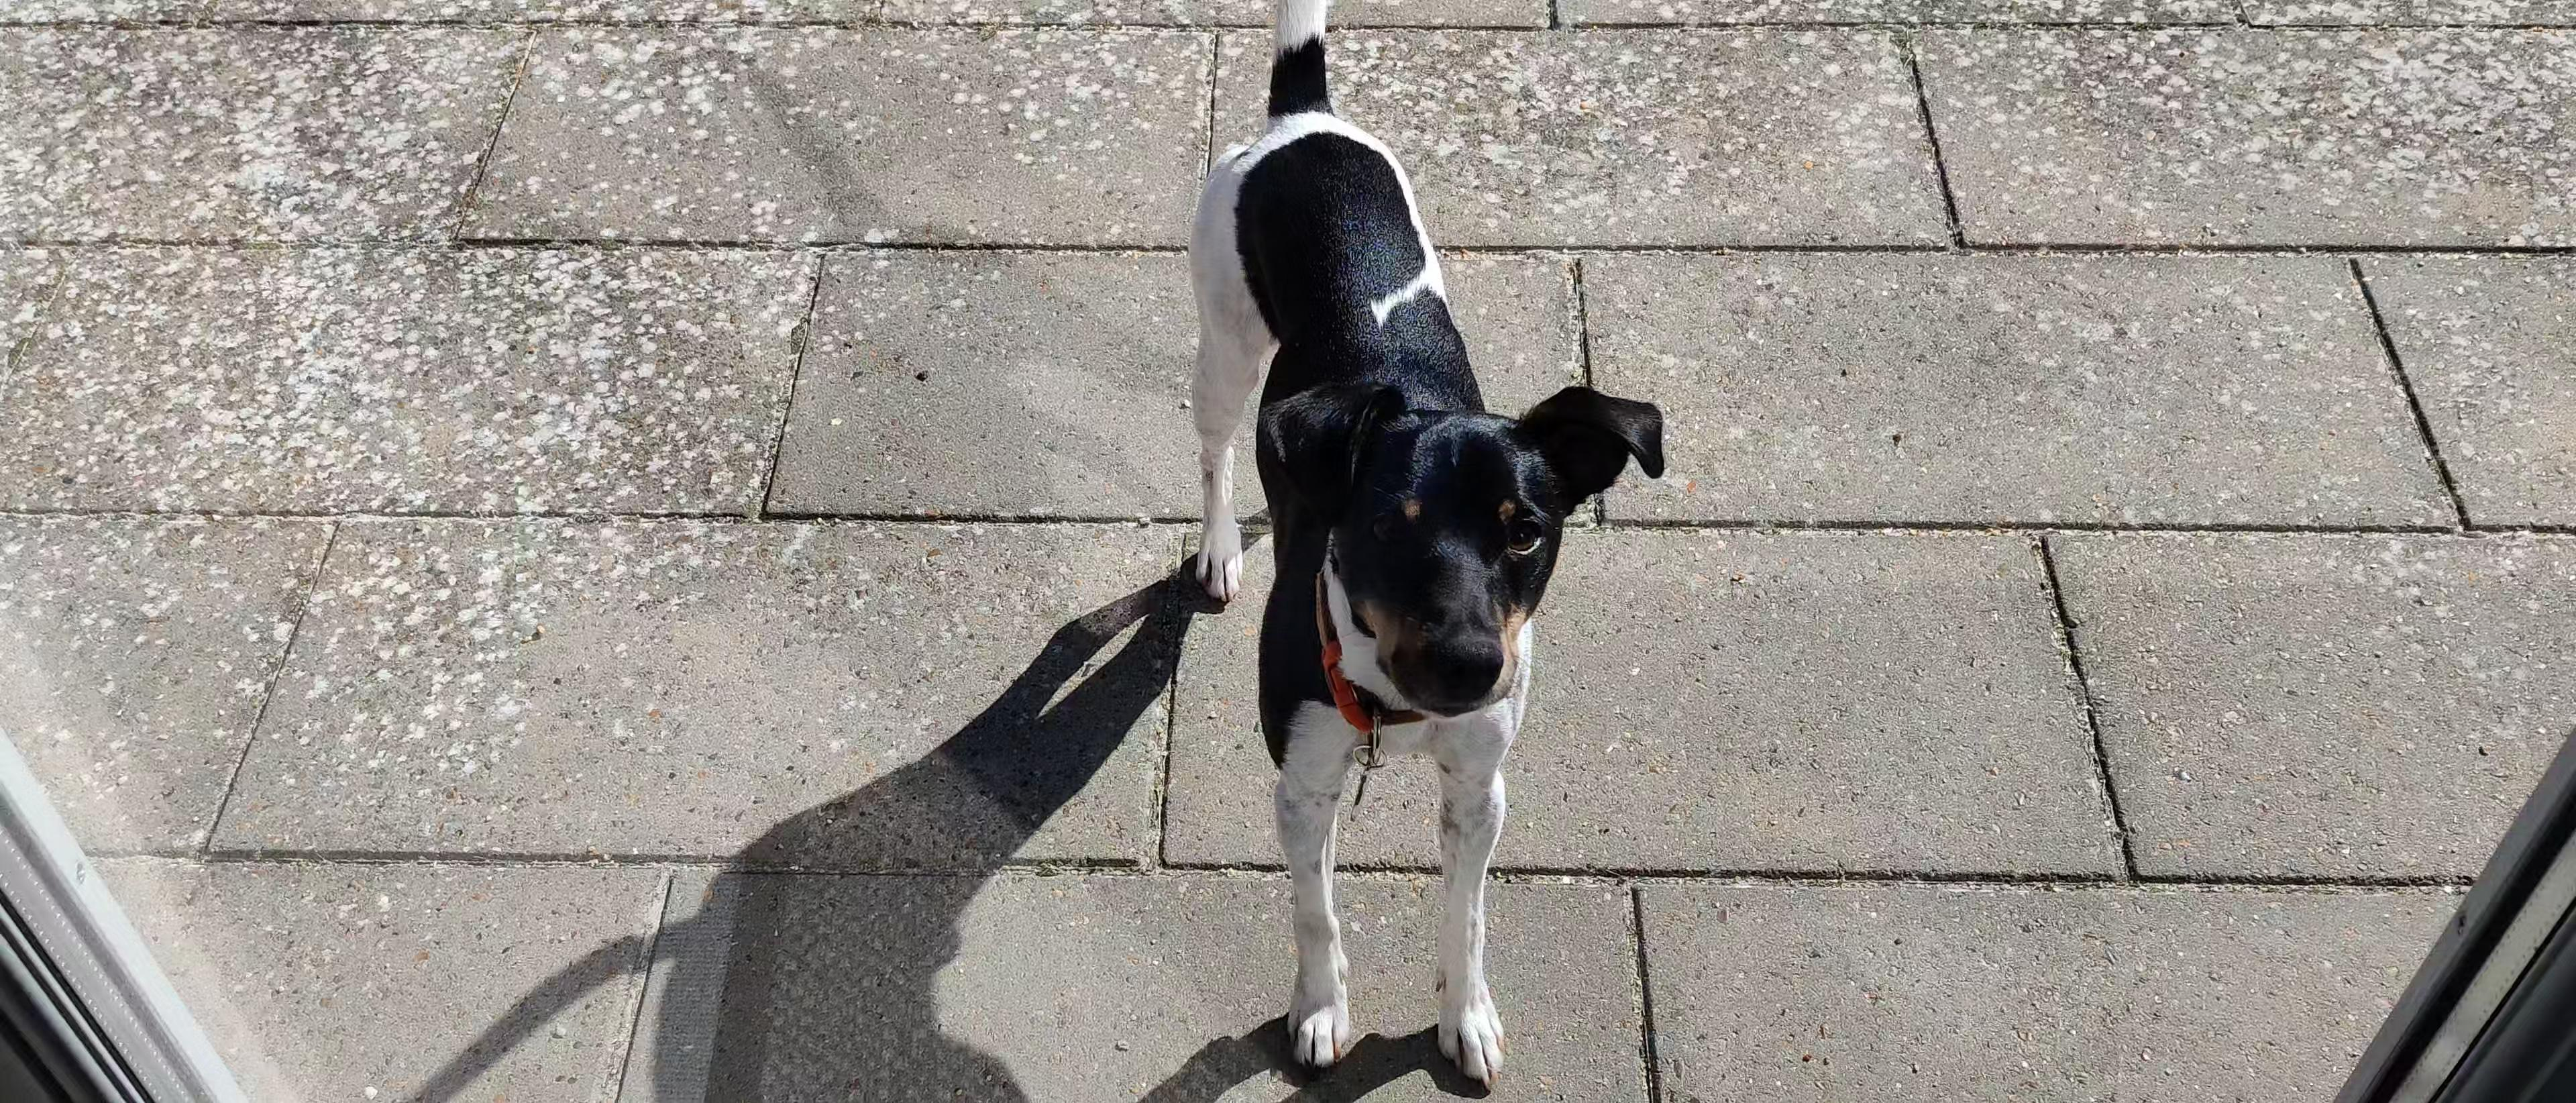Dog: (1153, 0, 1677, 1091)
